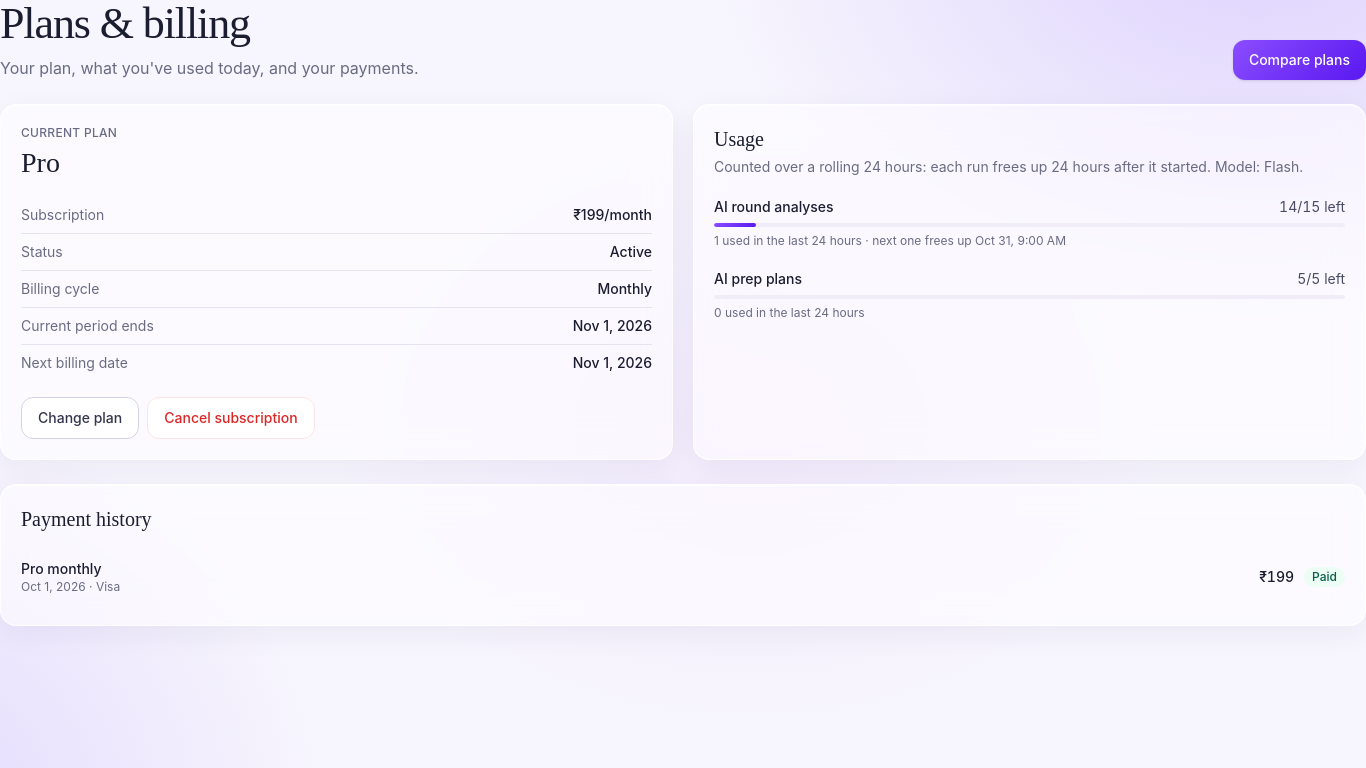
Scenario: billing dashboard › cancels at the end of the period by default
The image size is (1366, 768).
Click the button "Cancel subscription" at (231, 418), box [147,397,315,439]
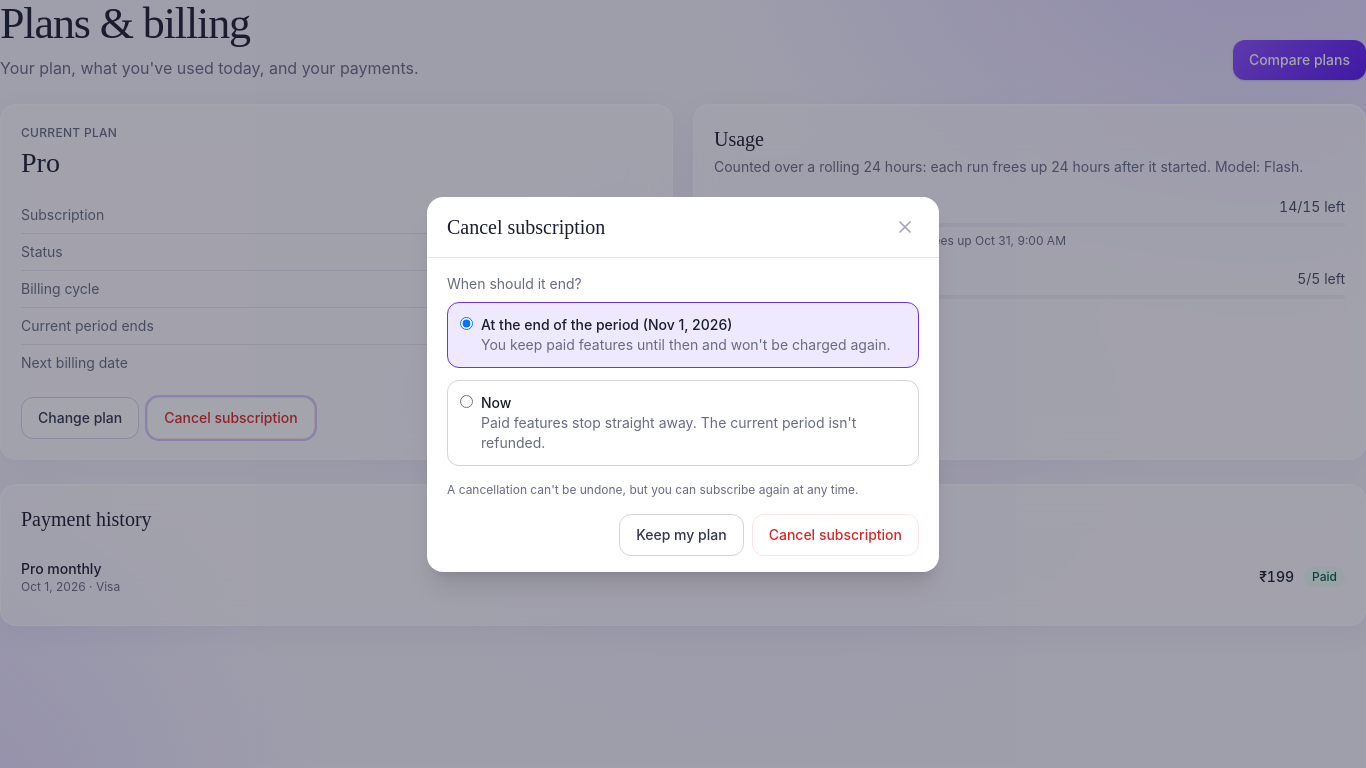
Result: the radio button labelled "At the end of the period" is checked at [460,316,473,330]
Click the button "Cancel subscription" at (835, 534), box [752,514,919,556]
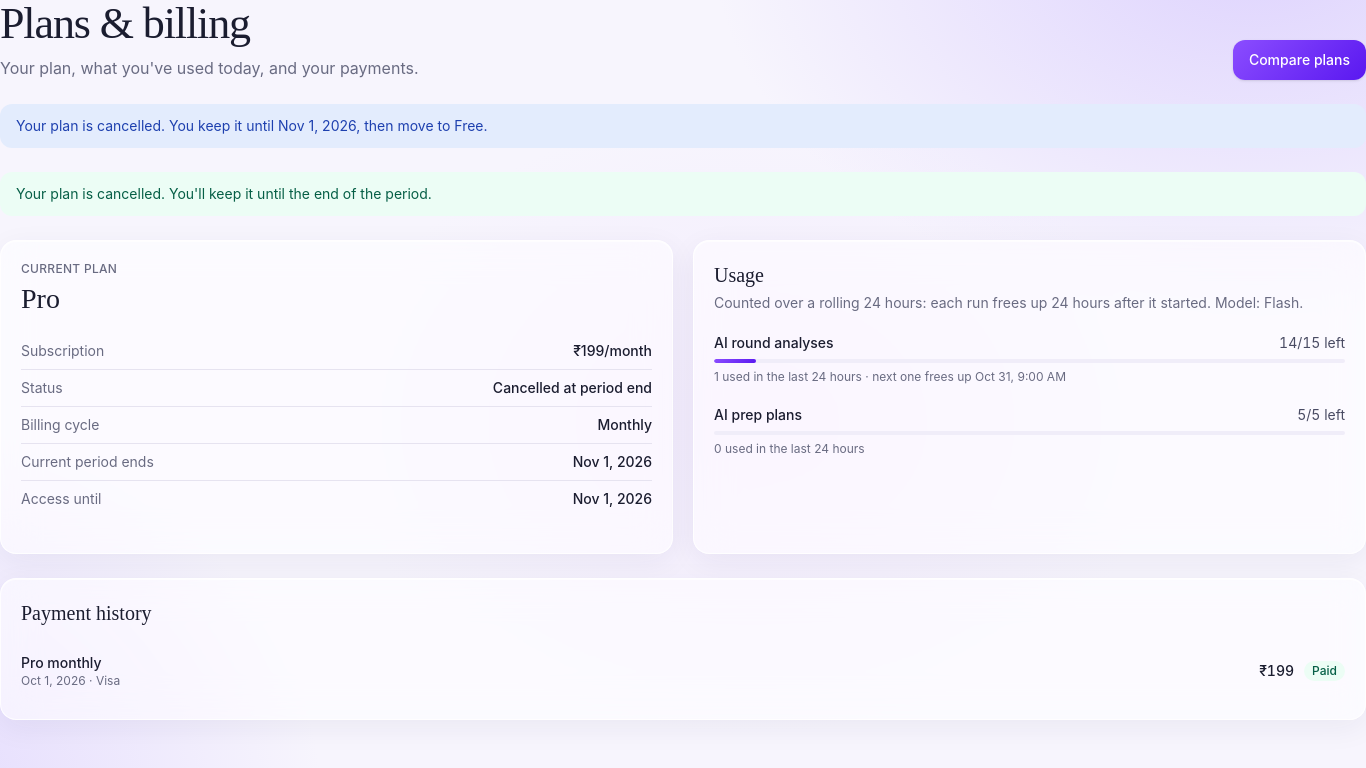
Result: the text "keep it until the end of the period" is shown at [16,185,432,202]
Result: the text "Cancelled at period end" is shown at [493,378,652,398]
Result: the text "Access until" is shown at [21,489,102,509]
